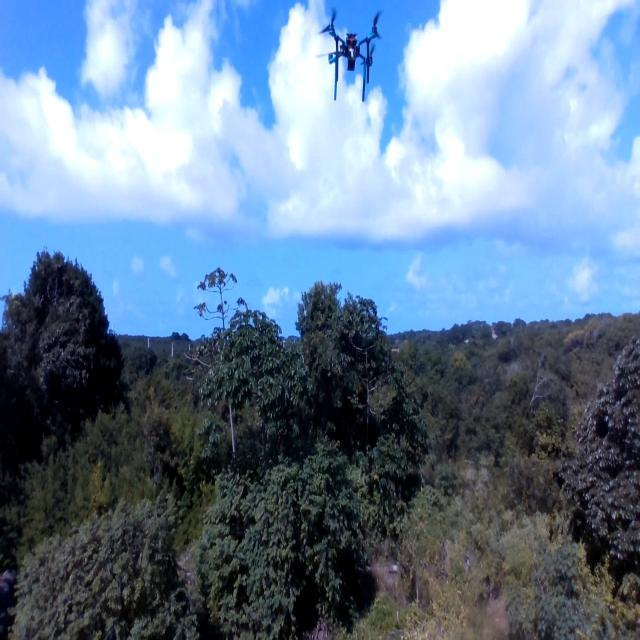-uav-: (316, 5, 389, 106)
